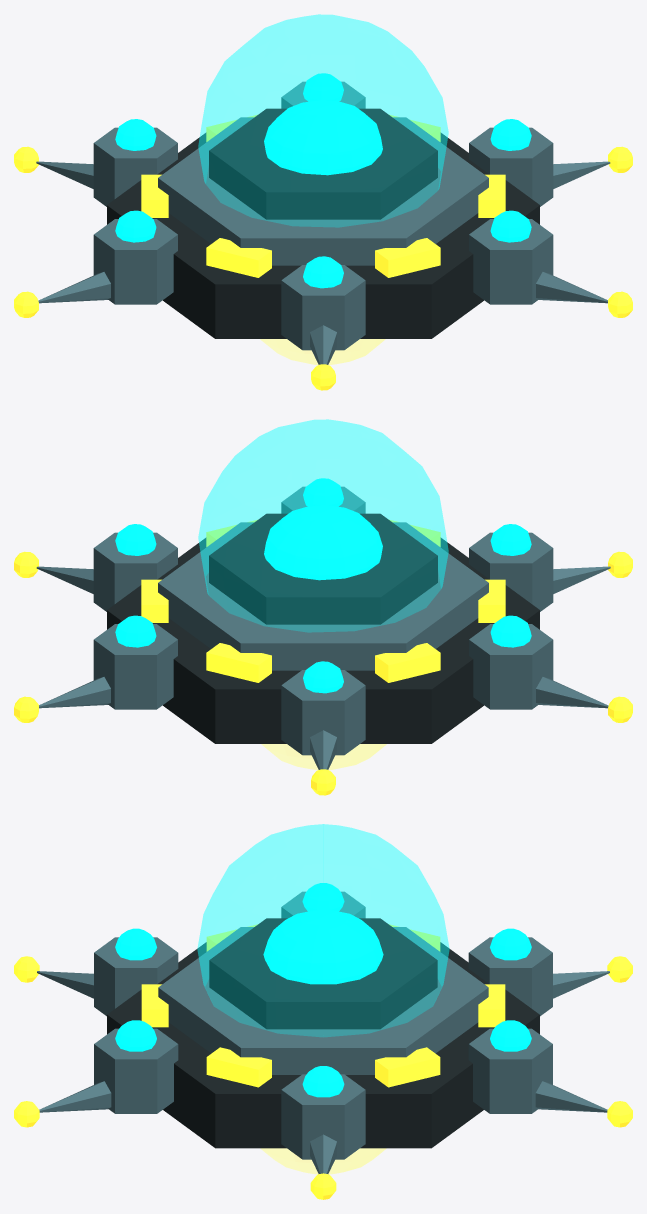
The model's file is enemy_colossus.glb.
The picture shows the model from 3 angles, top to bottom: view 1: azimuth 30°, elevation 25°; view 2: azimuth 150°, elevation 25°; view 3: azimuth 270°, elevation 25°; orthographic projection.
Parts seen in each view (by area): view 1: enemy_colossus; view 2: enemy_colossus; view 3: enemy_colossus.
Part boxes in pixels (x1,y1,x2,y2): enemy_colossus: [14, 14, 632, 390]; enemy_colossus: [14, 419, 632, 795]; enemy_colossus: [14, 824, 632, 1199].
Size of the model in its own units: 2.37 by 1.22 by 2.06.
